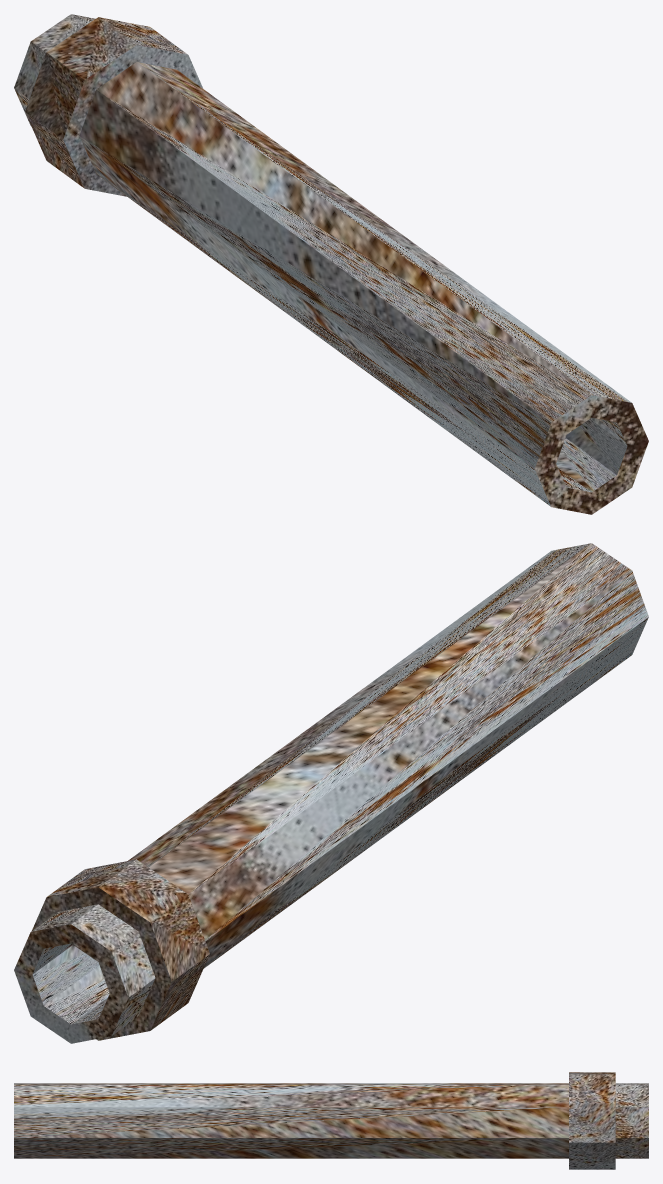
Rendered from Pipe.fbx.
3 views of the same model, one above another, from view 1: azimuth 30°, elevation 25°; view 2: azimuth 150°, elevation 25°; view 3: azimuth 270°, elevation 25° (orthographic). The views are drawn at different scales.
Parts seen in each view (by area): view 1: Cylinder; view 2: Cylinder; view 3: Cylinder.
Boxes of the visible parts, x1=… form: Cylinder: x1=14, y1=14, x2=648, y2=514; Cylinder: x1=14, y1=543, x2=648, y2=1043; Cylinder: x1=14, y1=1072, x2=648, y2=1169.
Bounding box in the file's own units: 71.42 × 71.42 × 439.
1 material, 1 textured.
